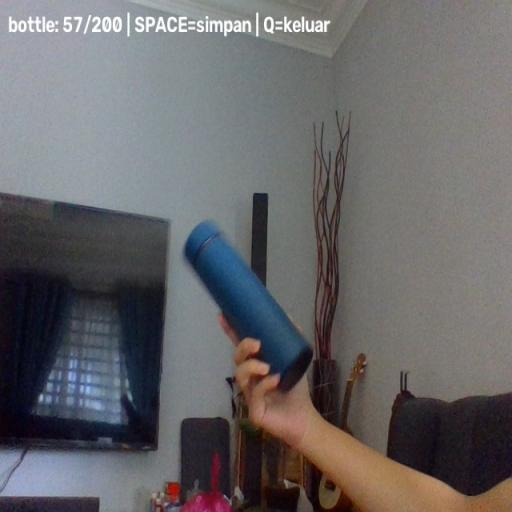Bottle: (182, 218, 314, 392)
